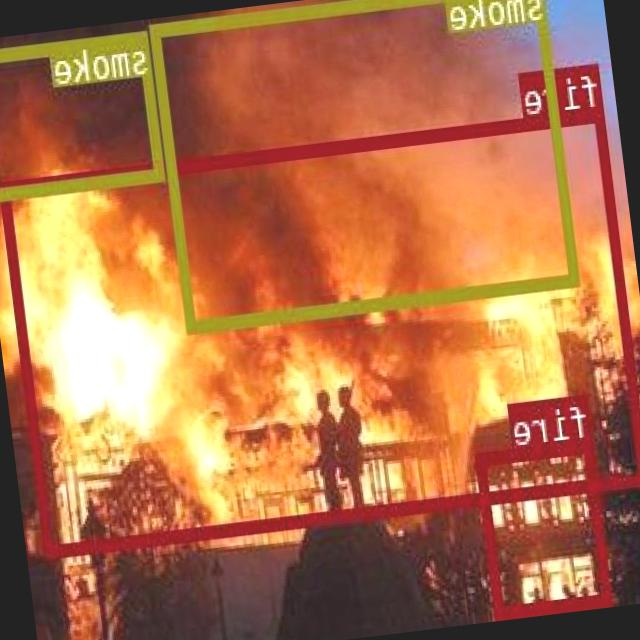fire: (1, 106, 640, 556), (478, 437, 614, 615)
smoke: (151, 0, 581, 329), (0, 29, 165, 199)
